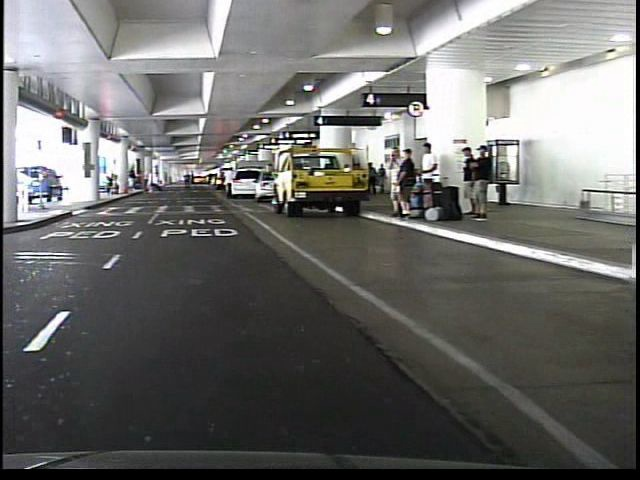person: (380, 143, 400, 215), (469, 144, 487, 221), (216, 165, 232, 200), (138, 163, 153, 197)
